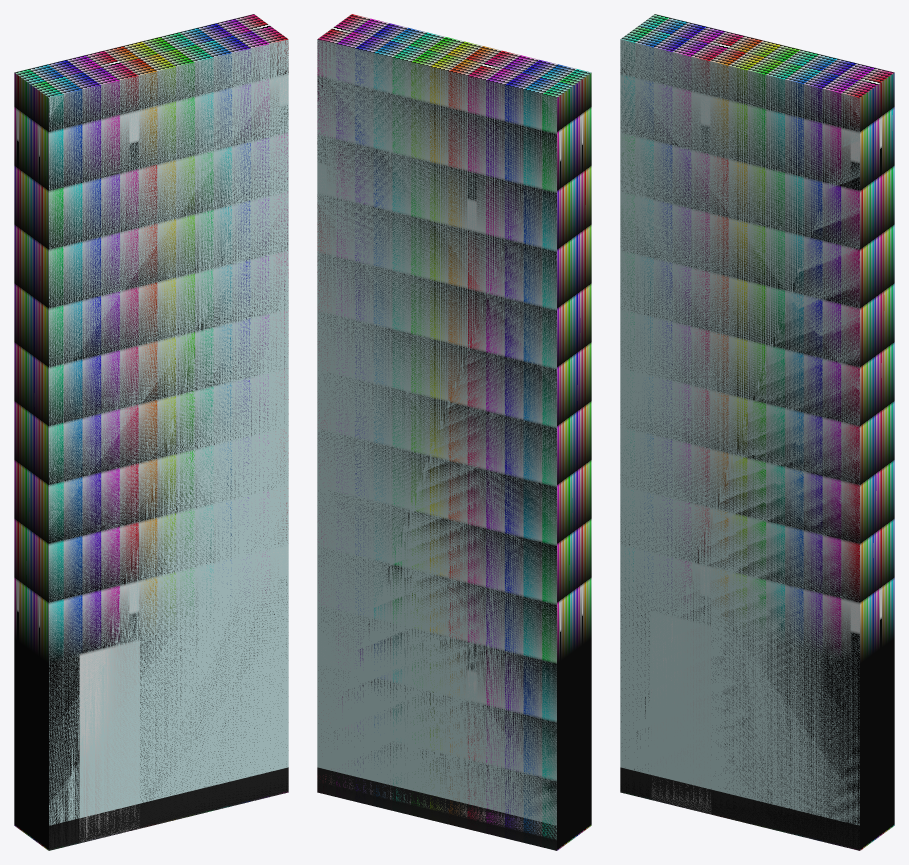
File: interiorWall_line_1.fbx
3 views of the same model, side by side, from view 1: azimuth 30°, elevation 25°; view 2: azimuth 150°, elevation 25°; view 3: azimuth 330°, elevation 25° (orthographic).
Parts seen in each view (by area): view 1: interiorWall_line_1, trigger; view 2: interiorWall_line_1, trigger; view 3: interiorWall_line_1, trigger.
Part boxes in pixels (bbox=[...]): interiorWall_line_1: bbox=[49, 39, 288, 850]; trigger: bbox=[14, 14, 288, 850]; interiorWall_line_1: bbox=[317, 39, 556, 850]; trigger: bbox=[317, 14, 591, 850]; interiorWall_line_1: bbox=[620, 39, 859, 850]; trigger: bbox=[620, 14, 894, 850].
Size of what is drawn, in the model's own units: 100 by 300 by 25.
